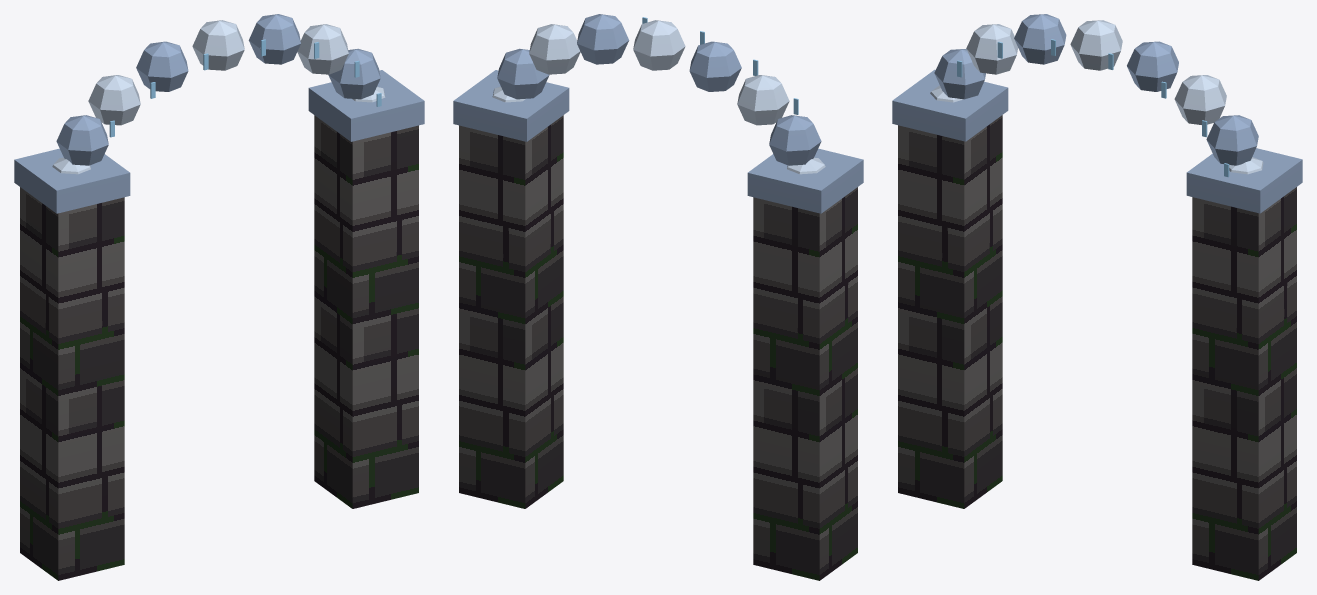
The model's file is hels_arch.glb.
The picture shows the model from 3 angles, left to right: view 1: azimuth 30°, elevation 25°; view 2: azimuth 150°, elevation 25°; view 3: azimuth 330°, elevation 25°; orthographic projection.
Visible parts, largest first — view 1: hels_arch; view 2: hels_arch; view 3: hels_arch.
Part boxes in pixels (x1,y1,x2,y2): hels_arch: [14, 14, 424, 580]; hels_arch: [453, 14, 863, 580]; hels_arch: [892, 14, 1302, 580].
Size of the model in its own units: 5 by 6.52 by 1.
Materials: 3 (1 with a texture image).
